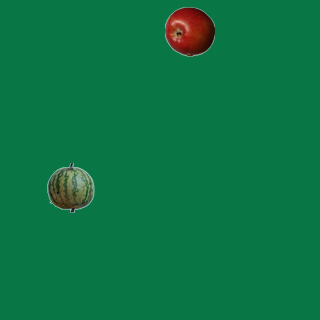Apple Braeburn: (164, 6, 214, 56)
Watermelon: (45, 162, 95, 212)
